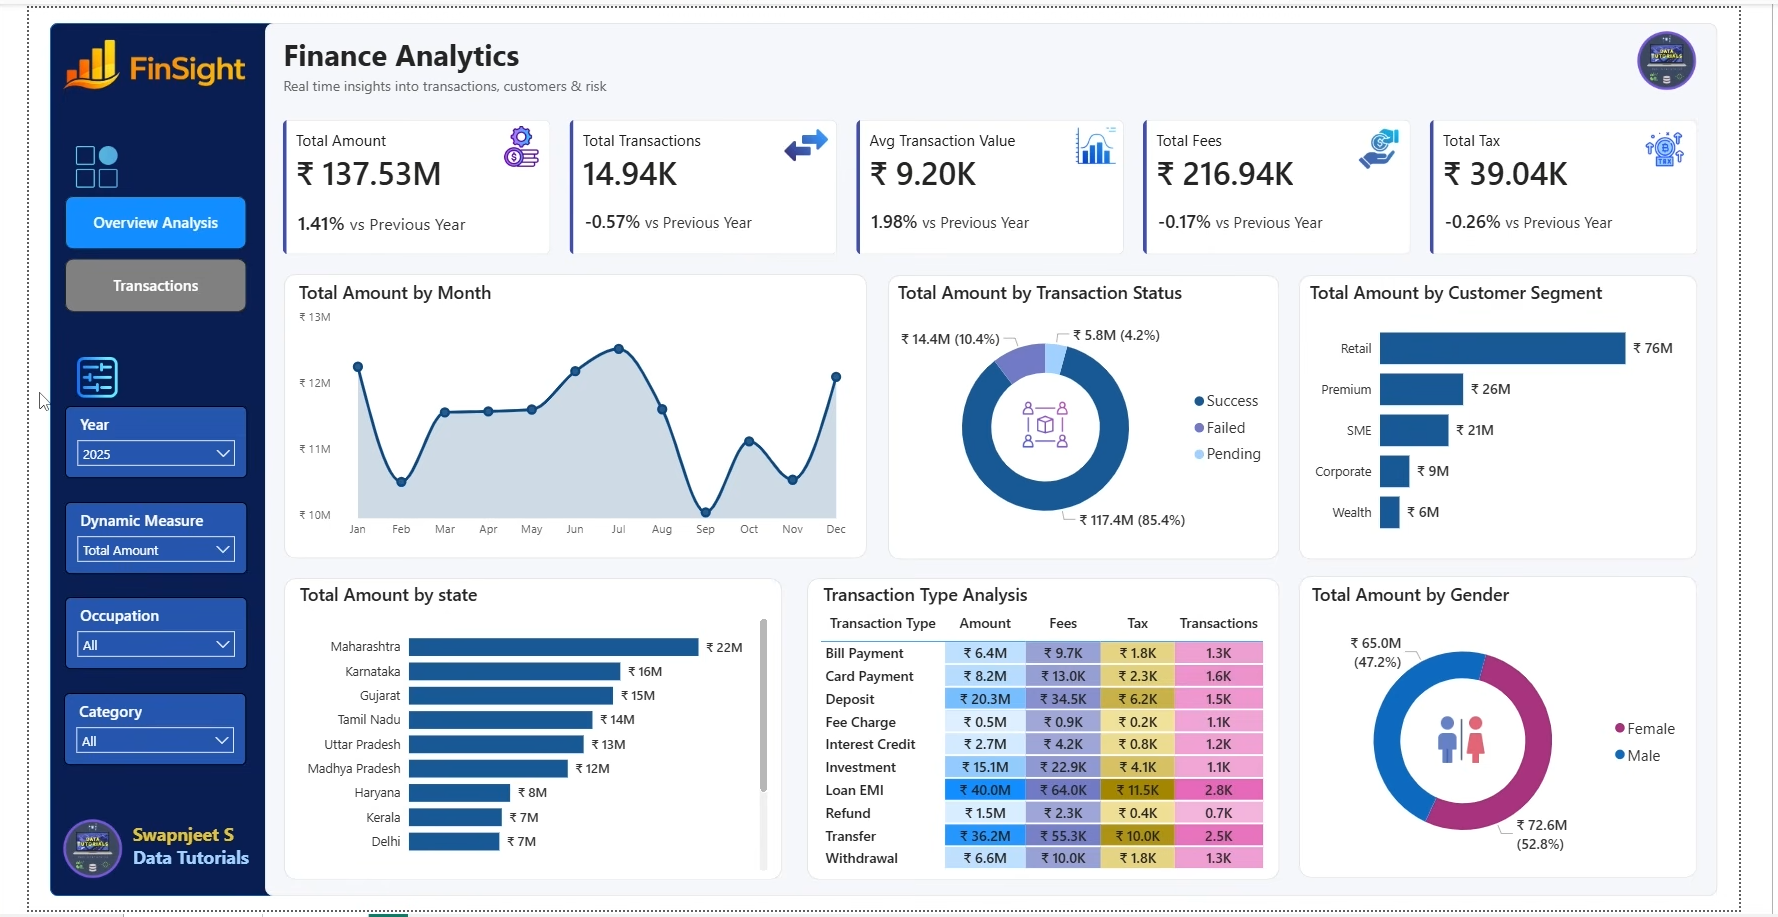

The dashboard page shown, as its layout file describes it:
{"tool":"powerbi","page":{"name":"Overview Analysis","canvas":[1800,950],"ordinal":0},"visuals":[{"type":"shape","box":[13.1,16.4,279.6,915.7],"z":0},{"type":"shape","box":[251.8,16.4,1530.5,915.7],"z":1000},{"type":"shape","box":[22.9,39.2,220.7,68.7],"z":2000},{"type":"image","box":[18,34.3,230.6,78.5],"z":3000},{"type":"cardVisual","fields":{"Data":["finance_transactions.DAshboard Title"]},"box":[292.7,29.4,390.8,78.5],"z":4000},{"type":"cardVisual","fields":{"Data":["finance_transactions.Total Amount","finance_transactions.Total Transactions","finance_transactions.Avg Transaction Value","finance_transactions.Total Fees","finance_transactions.Total TAX"]},"box":[292.7,112.8,1460.2,147.2],"z":5000},{"type":"slicer","fields":{"Values":["Calander Table.Year"]},"box":[32.7,384.3,201.1,89.9],"z":6000},{"type":"image","box":[505.3,122.6,68.7,63.8],"z":7000},{"type":"image","box":[793.1,122.6,68.7,63.8],"z":8000},{"type":"image","box":[1089,122.6,67,63.8],"z":9000},{"type":"image","box":[1386.6,122.6,62.1,63.8],"z":10000},{"type":"image","box":[1672.8,122.6,65.4,63.8],"z":11000},{"type":"slicer","fields":{"Values":["Dynamic Metric.Dynamic Metric"]},"box":[34.3,500.4,201.1,93.2],"z":12000},{"type":"shape","box":[292.7,274.7,614.8,299.2],"z":13000},{"type":"areaChart","fields":{"Category":["Calander Table.Month"],"Y":["finance_transactions.Total Amount"]},"box":[302.5,284.5,593.6,282.9],"z":14000},{"type":"cardVisual","fields":{"Data":["finance_transactions.Selected Year","finance_transactions.Selected Dynamic Measure 1"]},"box":[1257.5,42.5,480.7,62.1],"z":15000},{"type":"shape","box":[930.4,278,415.3,299.2],"z":16000},{"type":"donutChart","fields":{"Category":["finance_transactions.transaction_status"],"Y":["finance_transactions.Total Amount"]},"box":[938.6,287.8,394.1,282.9],"z":17000},{"type":"shape","box":[1367,279.6,385.9,299.2],"z":18000},{"type":"barChart","fields":{"Category":["customers.customer_segment"],"Y":["finance_transactions.Total Amount"]},"box":[1371.9,289.4,366.3,282.9],"z":19000},{"type":"shape","box":[292.7,595.2,520,312.3],"z":20000},{"type":"barChart","fields":{"Category":["customers.state"],"Y":["finance_transactions.Total Amount"]},"box":[302.5,603.4,500.4,289.4],"z":21000},{"type":"shape","box":[833.9,593.6,513.4,315.6],"z":22000},{"type":"tableEx","title":"Transaction Type Analysis","fields":{"Values":["finance_transactions.transaction_type","finance_transactions.Total Amount","finance_transactions.Total Fees","finance_transactions.Total TAX","finance_transactions.Total Transactions"]},"box":[840.5,596.8,498.7,310.7],"z":23000},{"type":"shape","box":[1367,593.6,385.9,315.6],"z":24000},{"type":"donutChart","fields":{"Category":["customers.gender"],"Y":["finance_transactions.Total Amount"]},"box":[1371.9,596.8,366.3,309],"z":25000},{"type":"image","box":[1486.4,737.5,68.7,55.6],"z":26000},{"type":"slicer","fields":{"Values":["customers.occupation"]},"box":[32.7,614.8,201.1,93.2],"z":27000},{"type":"slicer","fields":{"Values":["finance_transactions.merchant_category"]},"box":[32.7,737.5,201.1,93.2],"z":28000},{"type":"pageNavigator","box":[32.7,135.7,201.1,153.7],"z":29000}]}

Visuals, with their boxes on the page's 1800x950 design canvas (x1, y1, x2, y2). These are canvas units, not pixel positions in the 1778x917 screenshot, which may show the page scaled, cropped or inside an application window:
shape: (13,16,293,932)
shape: (252,16,1782,932)
shape: (23,39,244,108)
image: (18,34,249,113)
cardVisual - finance_transactions.DAshboard Title: (293,29,684,108)
cardVisual - finance_transactions.Total Amount x finance_transactions.Total Transactions: (293,113,1753,260)
slicer - Calander Table.Year: (33,384,234,474)
image: (505,123,574,186)
image: (793,123,862,186)
image: (1089,123,1156,186)
image: (1387,123,1449,186)
image: (1673,123,1738,186)
slicer - Dynamic Metric.Dynamic Metric: (34,500,235,594)
shape: (293,275,908,574)
areaChart - Calander Table.Month x finance_transactions.Total Amount: (302,284,896,567)
cardVisual - finance_transactions.Selected Year x finance_transactions.Selected Dynamic Measure 1: (1258,42,1738,105)
shape: (930,278,1346,577)
donutChart - finance_transactions.transaction_status x finance_transactions.Total Amount: (939,288,1333,571)
shape: (1367,280,1753,579)
barChart - customers.customer_segment x finance_transactions.Total Amount: (1372,289,1738,572)
shape: (293,595,813,908)
barChart - customers.state x finance_transactions.Total Amount: (302,603,803,893)
shape: (834,594,1347,909)
"Transaction Type Analysis" tableEx: (840,597,1339,908)
shape: (1367,594,1753,909)
donutChart - customers.gender x finance_transactions.Total Amount: (1372,597,1738,906)
image: (1486,738,1555,793)
slicer - customers.occupation: (33,615,234,708)
slicer - finance_transactions.merchant_category: (33,738,234,831)
pageNavigator: (33,136,234,289)
